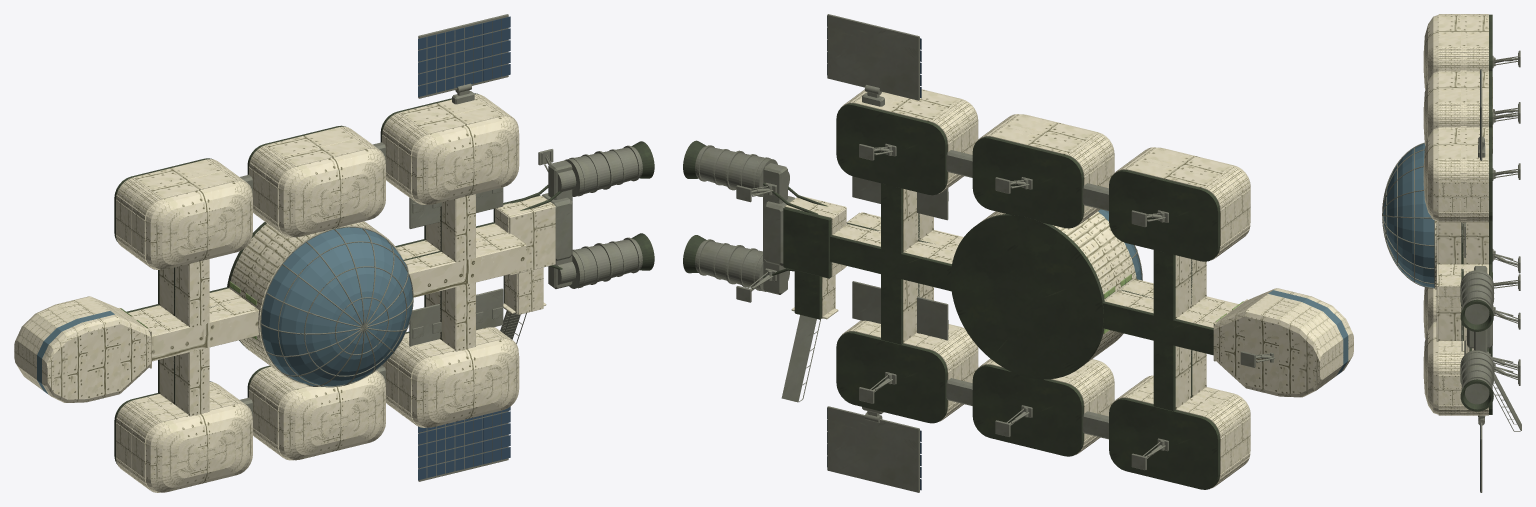
Rendered from ECHO7_Exterior.obj.
The picture shows the model from 3 angles, left to right: view 1: azimuth 30°, elevation 25°; view 2: azimuth 150°, elevation 25°; view 3: azimuth 270°, elevation 25°; orthographic projection. The views are drawn at different scales.
Visible parts, largest first — view 1: ECHO7_26_Pasillos_Superiores__Techo_pasillo_02, ECHO7_26_Pasillos_Superiores__Techo_pasillo_01, ECHO7_30_Exterior_Unificado__Casco_doble_altura_73, ECHO7_10_Carga_Esclusa__Techo_carga_01, ECHO7_11_Propulsion_Paneles__Cuerpo_motor_02, ECHO7_11_Propulsion_Paneles__Cuerpo_motor_01, ECHO7_11_Propulsion_Paneles__Soporte_radiadores_01, ECHO7_11_Propulsion_Paneles__Panel_solar_marco_02, ECHO7_26_Pasillos_Superiores__Techo_pasillo_05, ECHO7_26_Pasillos_Superiores__Techo_pasillo_03, ECHO7_26_Pasillos_Superiores__Techo_pasillo_04, ECHO7_26_Pasillos_Superiores__Techo_pasillo_06 (+18 smaller); view 2: ECHO7_09_Habitat_Central__Suelo_habitat_01, ECHO7_07_Ingenieria_Taller__Suelo_modulo_01, ECHO7_05_Enfermeria_Laboratorio__Suelo_modulo_01, ECHO7_03_Clonacion__Suelo_modulo_01, ECHO7_24_Almacen_Logistica__Suelo_modulo_01, ECHO7_04_Despertar__Suelo_modulo_01, ECHO7_23_Archivo_Biologico__Suelo_modulo_01, ECHO7_11_Propulsion_Paneles__Panel_solar_marco_02, ECHO7_11_Propulsion_Paneles__Panel_solar_marco_01, ECHO7_02_Pasillos__Suelo_pasillo_02, ECHO7_02_Pasillos__Suelo_pasillo_01, ECHO7_10_Carga_Esclusa__Suelo_carga_01 (+25 smaller); view 3: ECHO7_11_Propulsion_Paneles__Cuerpo_motor_02, ECHO7_11_Propulsion_Paneles__Cuerpo_motor_01, ECHO7_26_Pasillos_Superiores__Pared_pasillo_15, ECHO7_02_Pasillos__Pared_pasillo_15, ECHO7_26_Pasillos_Superiores__Pared_pasillo_14, ECHO7_03_Clonacion__Pared_presion_07, ECHO7_19_Observatorio_Comunicaciones__Pared_presion_07, ECHO7_22_Control_Navegacion__Pared_presion_07, ECHO7_08_Cocina_Comedor__Pared_presion_14, ECHO7_21_Sala_Comun__Pared_presion_07, ECHO7_07_Ingenieria_Taller__Pared_presion_27, ECHO7_22_Control_Navegacion__Pared_presion_27 (+25 smaller).
Part boxes in pixels (x1,y1,x2,y2): ECHO7_26_Pasillos_Superiores__Techo_pasillo_02: (409,244,526,297); ECHO7_26_Pasillos_Superiores__Techo_pasillo_01: (152,309,259,361); ECHO7_30_Exterior_Unificado__Casco_doble_altura_73: (87,324,120,398); ECHO7_10_Carga_Esclusa__Techo_carga_01: (509,205,555,275); ECHO7_11_Propulsion_Paneles__Cuerpo_motor_02: (565,146,642,196); ECHO7_11_Propulsion_Paneles__Cuerpo_motor_01: (569,238,642,288); ECHO7_11_Propulsion_Paneles__Soporte_radiadores_01: (409,288,503,346); ECHO7_11_Propulsion_Paneles__Panel_solar_marco_02: (418,14,508,98); ECHO7_26_Pasillos_Superiores__Techo_pasillo_05: (455,282,475,351); ECHO7_26_Pasillos_Superiores__Techo_pasillo_03: (189,346,209,416); ECHO7_26_Pasillos_Superiores__Techo_pasillo_04: (189,259,209,328); ECHO7_26_Pasillos_Superiores__Techo_pasillo_06: (455,194,475,262); ECHO7_09_Habitat_Central__Suelo_habitat_01: (950,214,1104,379); ECHO7_07_Ingenieria_Taller__Suelo_modulo_01: (836,103,947,195); ECHO7_05_Enfermeria_Laboratorio__Suelo_modulo_01: (972,136,1083,228); ECHO7_03_Clonacion__Suelo_modulo_01: (1109,169,1219,261); ECHO7_24_Almacen_Logistica__Suelo_modulo_01: (836,331,947,423); ECHO7_04_Despertar__Suelo_modulo_01: (1109,398,1219,489); ECHO7_23_Archivo_Biologico__Suelo_modulo_01: (972,364,1083,456); ECHO7_11_Propulsion_Paneles__Panel_solar_marco_02: (827,14,919,100); ECHO7_11_Propulsion_Paneles__Panel_solar_marco_01: (827,406,919,492); ECHO7_02_Pasillos__Suelo_pasillo_02: (830,235,951,291); ECHO7_02_Pasillos__Suelo_pasillo_01: (1103,301,1213,355); ECHO7_10_Carga_Esclusa__Suelo_carga_01: (783,207,831,278); ECHO7_11_Propulsion_Paneles__Cuerpo_motor_02: (1460,270,1493,324); ECHO7_11_Propulsion_Paneles__Cuerpo_motor_01: (1460,350,1493,404); ECHO7_26_Pasillos_Superiores__Pared_pasillo_15: (1438,222,1460,264); ECHO7_02_Pasillos__Pared_pasillo_15: (1466,222,1488,264); ECHO7_26_Pasillos_Superiores__Pared_pasillo_14: (1438,307,1460,341); ECHO7_03_Clonacion__Pared_presion_07: (1466,15,1488,46); ECHO7_19_Observatorio_Comunicaciones__Pared_presion_07: (1438,15,1460,46); ECHO7_22_Control_Navegacion__Pared_presion_07: (1438,128,1460,159); ECHO7_08_Cocina_Comedor__Pared_presion_14: (1438,375,1460,405); ECHO7_21_Sala_Comun__Pared_presion_07: (1438,72,1460,102); ECHO7_07_Ingenieria_Taller__Pared_presion_27: (1466,182,1488,212); ECHO7_22_Control_Navegacion__Pared_presion_27: (1438,182,1460,212).
Size of the model in its own units: 93.4 by 64 by 20.98.
7 materials, 7 textured.
